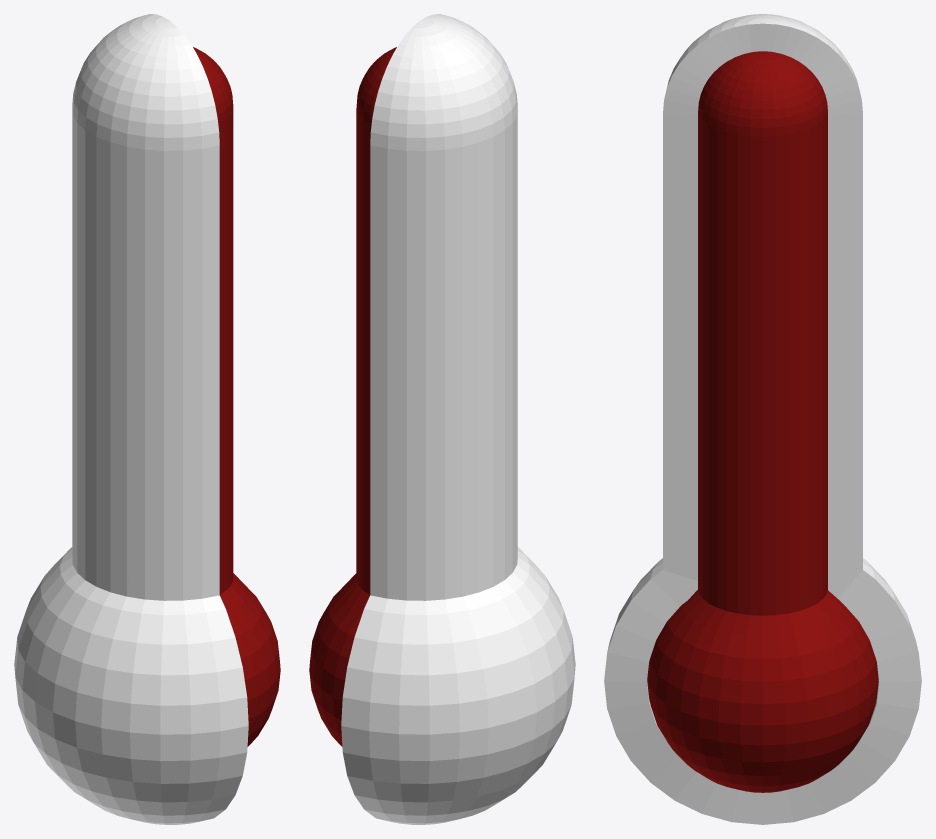
Rendered from TemperatureBonus.fbx.
The picture shows the model from 3 angles, left to right: view 1: azimuth 30°, elevation 25°; view 2: azimuth 150°, elevation 25°; view 3: azimuth 270°, elevation 25°; orthographic projection.
Visible parts, largest first — view 1: Sphere; view 2: Sphere; view 3: Sphere.
Part boxes in pixels (bbox=[...]): Sphere: bbox=[14, 14, 280, 824]; Sphere: bbox=[309, 14, 575, 824]; Sphere: bbox=[604, 14, 921, 824].
Size of the model in its own units: 188 by 615 by 221.
